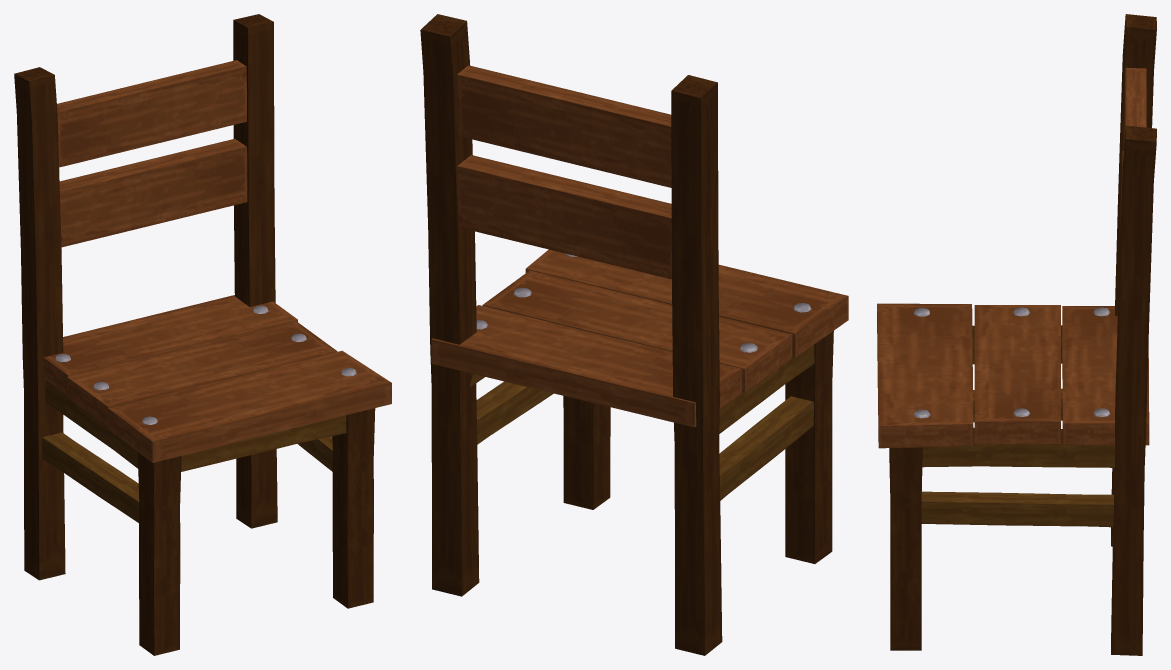
Rendered from Chair_1.glb.
3 views of the same model, side by side, from view 1: azimuth 30°, elevation 25°; view 2: azimuth 150°, elevation 25°; view 3: azimuth 270°, elevation 25° (orthographic). The views are drawn at different scales.
Parts seen in each view (by area): view 1: Chair_1; view 2: Chair_1; view 3: Chair_1.
Boxes of the visible parts, x1,y1,x2,y2 form: Chair_1: (14,14,391,655); Chair_1: (420,14,848,655); Chair_1: (877,14,1156,655).
Size of the model in its own units: 0.5805 by 1.12 by 0.5489.
2 materials, 2 textured.
